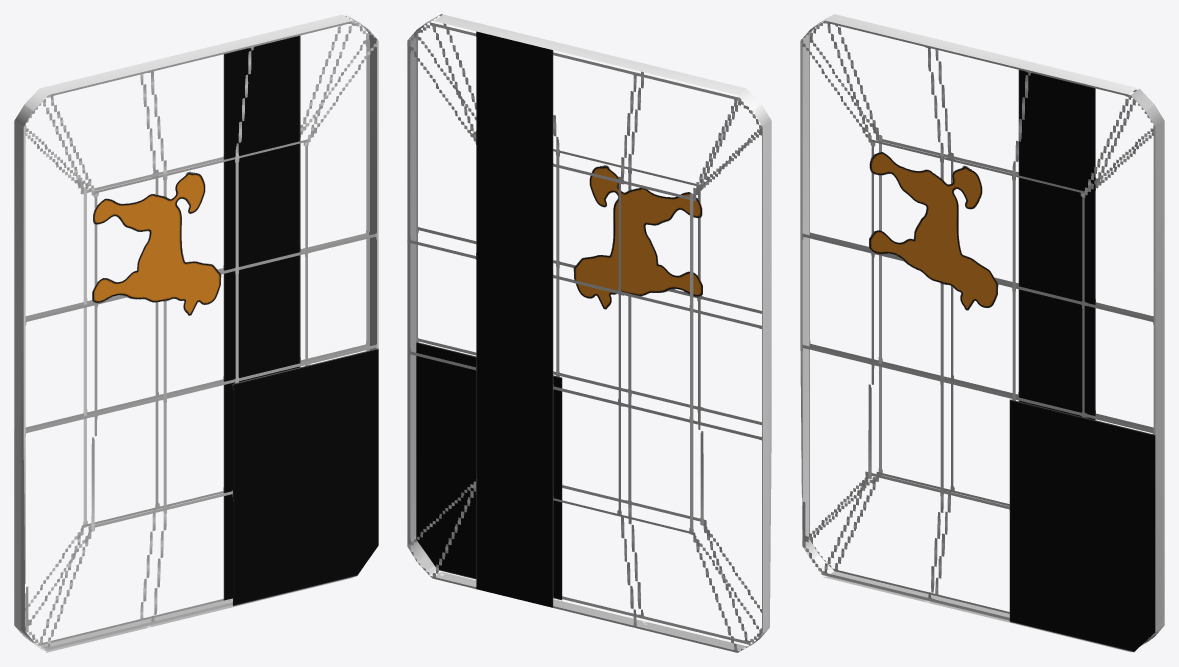
File: cardorangept2.fbx
The picture shows the model from 3 angles, left to right: view 1: azimuth 30°, elevation 25°; view 2: azimuth 150°, elevation 25°; view 3: azimuth 330°, elevation 25°; orthographic projection.
Visible parts, largest first — view 1: pCube1; view 2: pCube1; view 3: pCube1.
Boxes of the visible parts, x1=… form: pCube1: x1=14, y1=14, x2=378, y2=652; pCube1: x1=407, y1=14, x2=771, y2=652; pCube1: x1=800, y1=14, x2=1164, y2=652.
Bounding box in the file's own units: 10 × 15 × 0.4443.
